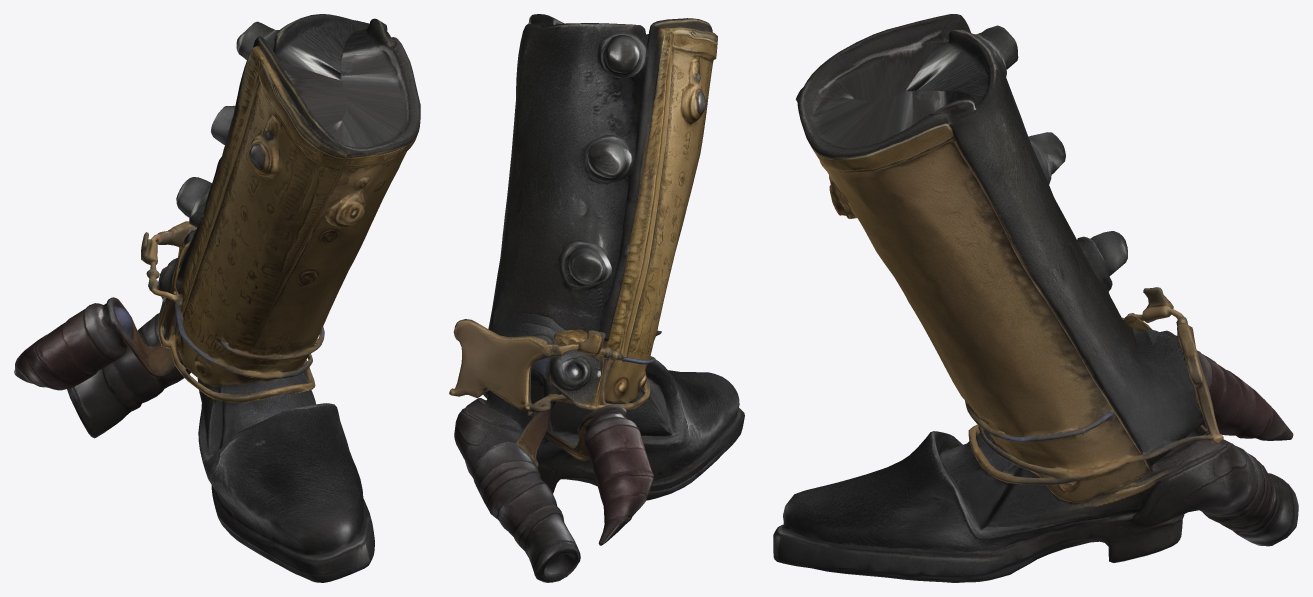
Rendered from prop_pegg_cast_iron_last.glb.
3 renders of one model, left to right at view 1: azimuth 30°, elevation 25°; view 2: azimuth 150°, elevation 25°; view 3: azimuth 270°, elevation 25°, orthographic. The views are drawn at different scales.
Bounding box in the file's own units: 0.2694 × 0.52 × 0.4491.
Materials: 1 (1 with a texture image).
